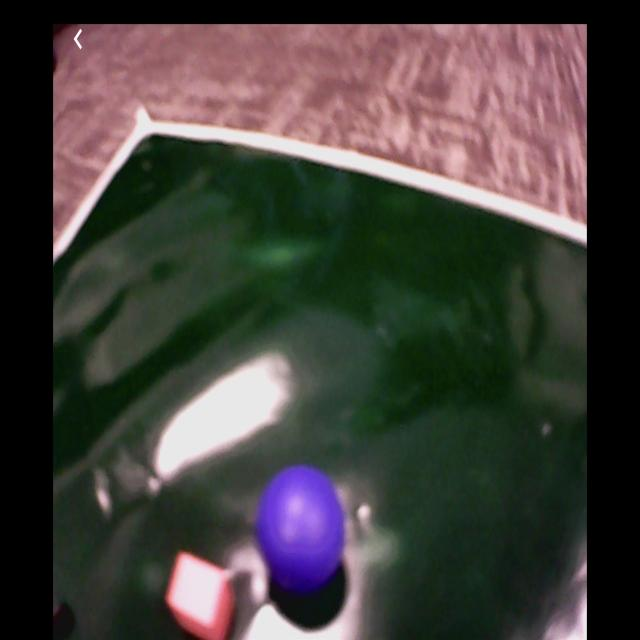ball: (260, 465, 344, 589)
